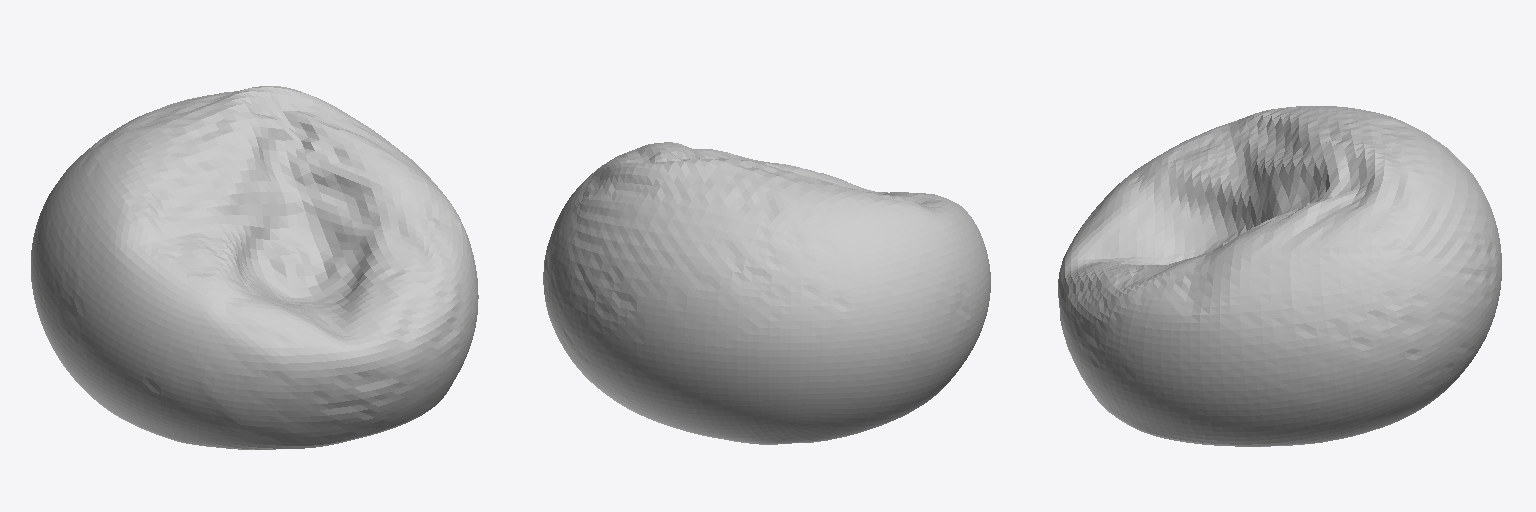
Rendered from bean-bag.obj.
3 views of the same model, side by side, from view 1: azimuth 30°, elevation 25°; view 2: azimuth 150°, elevation 25°; view 3: azimuth 270°, elevation 25° (orthographic).
Parts seen in each view (by area): view 1: #CHR0001_Bean_Bag; view 2: #CHR0001_Bean_Bag; view 3: #CHR0001_Bean_Bag.
Boxes of the visible parts, x1,y1,x2,y2 form: #CHR0001_Bean_Bag: [31, 86, 478, 449]; #CHR0001_Bean_Bag: [543, 142, 990, 444]; #CHR0001_Bean_Bag: [1058, 106, 1501, 446].
Bounding box in the file's own units: 0.8392 × 0.5089 × 0.8492.